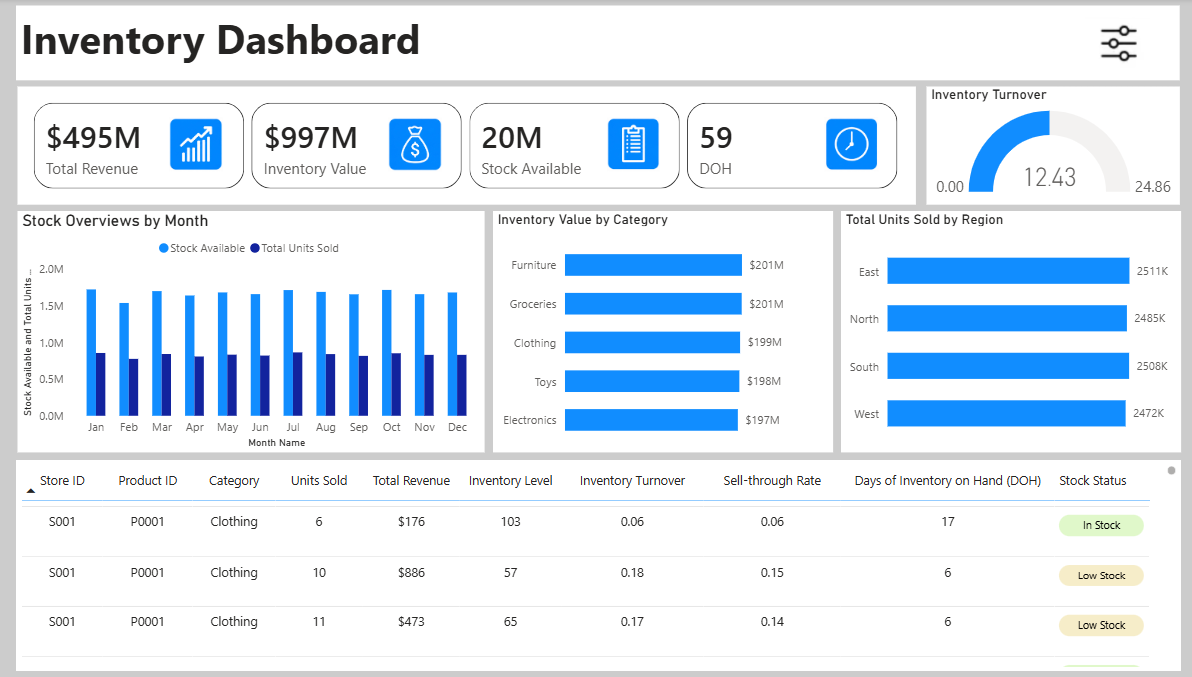

Layout of this report page (visuals, bound fields, positions):
{"tool":"powerbi","page":{"name":"Page 1","canvas":[1280,720],"ordinal":0},"visuals":[{"type":"textbox","title":"Title","box":[22.3,8,1234.3,79.5],"z":0},{"type":"cardVisual","fields":{"Data":["Key Measures.Total Revenue","Key Measures.Inventory Value","Key Measures.Stock Available","Key Measures.Days of Inventory on Hand (DOH)"]},"box":[23.9,93.8,952.8,125.7],"z":1000},{"type":"gauge","fields":{"Y":["Key Measures.Inventory Turnover"]},"box":[987.8,93.8,268.8,125.7],"z":2000},{"type":"clusteredColumnChart","title":"Stock Overviews by Month","fields":{"Y":["Key Measures.Stock Available","Key Measures.Total Units Sold"],"Category":["Date.Month Name"]},"box":[23.3,225.6,495.3,255.8],"z":3000},{"type":"barChart","fields":{"Y":["Key Measures.Inventory Value"],"Category":["Inventory.Category"]},"box":[527.9,225.6,360.5,255.8],"z":4000},{"type":"tableEx","fields":{"Values":["Inventory.Store ID","Inventory.Product ID","Inventory.Category","Inventory.Units Sold","Key Measures.Total Revenue","Inventory.Inventory Level","Key Measures.Inventory Turnover","Key Measures.Sell-through Rate","Key Measures.Days of Inventory on Hand (DOH)","Key Measures.Stock Status"]},"box":[22.6,489.4,1234.8,223.4],"z":5000},{"type":"image","title":"Open Filter Pane","box":[1148.8,20.9,86,53.5],"z":7000},{"type":"image","box":[184.5,125.7,57.3,58.9],"z":8000},{"type":"image","box":[416.7,125.7,57.3,58.9],"z":9000},{"type":"image","box":[649,125.7,55.7,58.9],"z":10000},{"type":"image","box":[879.6,125.7,57.3,58.9],"z":11000},{"type":"barChart","fields":{"Y":["Key Measures.Total Units Sold"],"Category":["Inventory.Region"]},"box":[897.7,225.6,360.5,255.8],"z":12000}]}

Visuals, with their boxes in screenshot pixels (x1, y1, x2, y2), scaled from the page's 1280x720 canvas onto the 1192x677 screenshot:
"Title" textbox: crop(21, 8, 1170, 82)
cardVisual - Key Measures.Total Revenue x Key Measures.Inventory Value: crop(22, 88, 910, 206)
gauge - Key Measures.Inventory Turnover: crop(920, 88, 1170, 206)
"Stock Overviews by Month" clusteredColumnChart: crop(22, 212, 483, 453)
barChart - Key Measures.Inventory Value x Inventory.Category: crop(492, 212, 827, 453)
tableEx - Inventory.Store ID x Inventory.Product ID: crop(21, 460, 1171, 670)
"Open Filter Pane" image: crop(1070, 20, 1150, 70)
image: crop(172, 118, 225, 174)
image: crop(388, 118, 441, 174)
image: crop(604, 118, 656, 174)
image: crop(819, 118, 872, 174)
barChart - Key Measures.Total Units Sold x Inventory.Region: crop(836, 212, 1172, 453)
